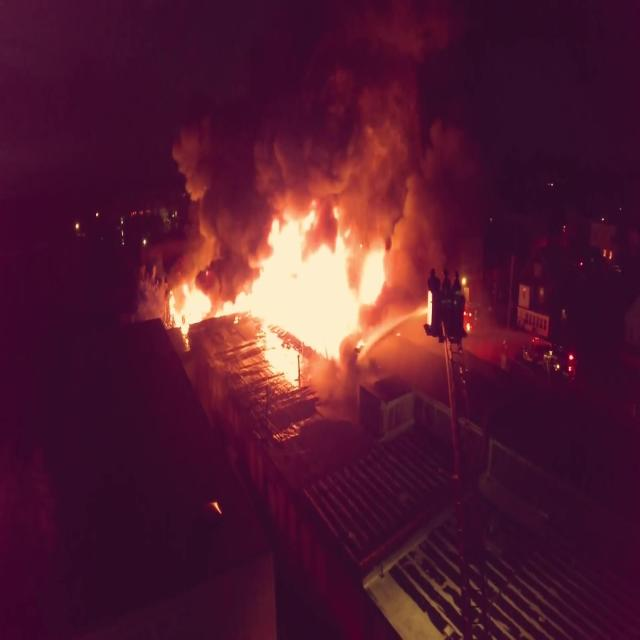fire: (268, 214, 371, 353)
smoke: (192, 141, 252, 259), (389, 158, 449, 273), (271, 149, 361, 208)
